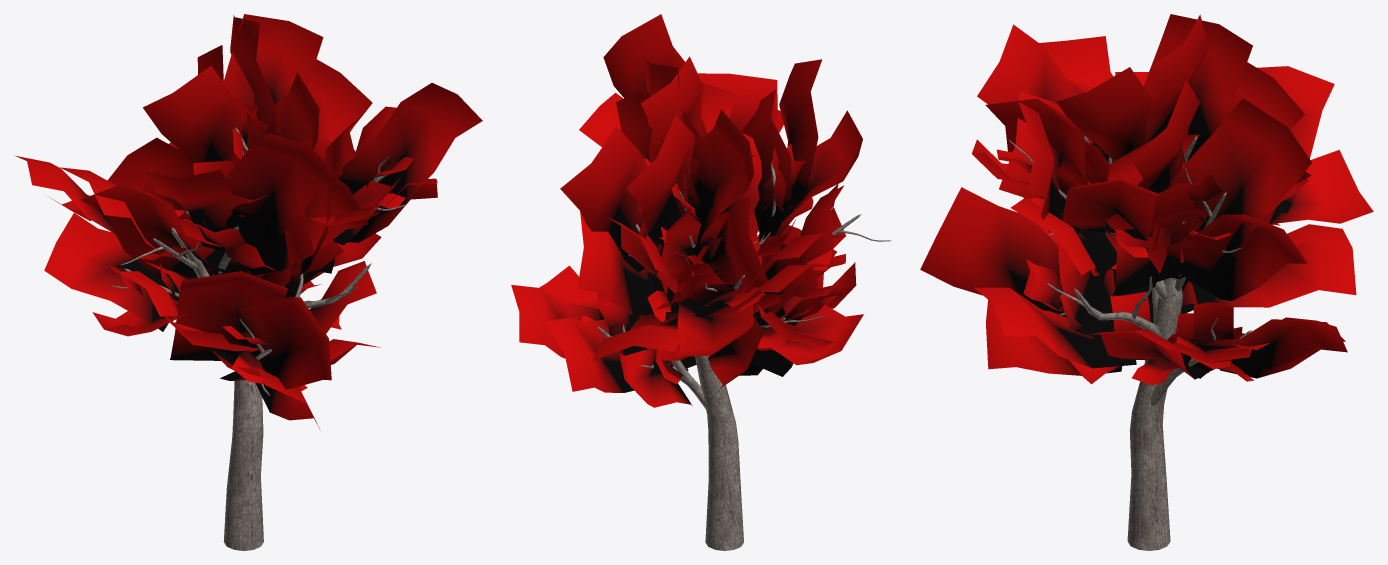
File: SM_LargeBeechGreen_1.fbx
3 views of the same model, side by side, from view 1: azimuth 30°, elevation 25°; view 2: azimuth 150°, elevation 25°; view 3: azimuth 270°, elevation 25° (orthographic). The views are drawn at different scales.
Parts seen in each view (by area): view 1: bigBeech_treeGreen_1; view 2: bigBeech_treeGreen_1; view 3: bigBeech_treeGreen_1.
Part boxes in pixels (x1=…): bigBeech_treeGreen_1: x1=15, y1=14, x2=482, y2=550; bigBeech_treeGreen_1: x1=511, y1=14, x2=891, y2=550; bigBeech_treeGreen_1: x1=920, y1=14, x2=1373, y2=550.
Size of the model in its own units: 6.22 by 8.68 by 6.59.
